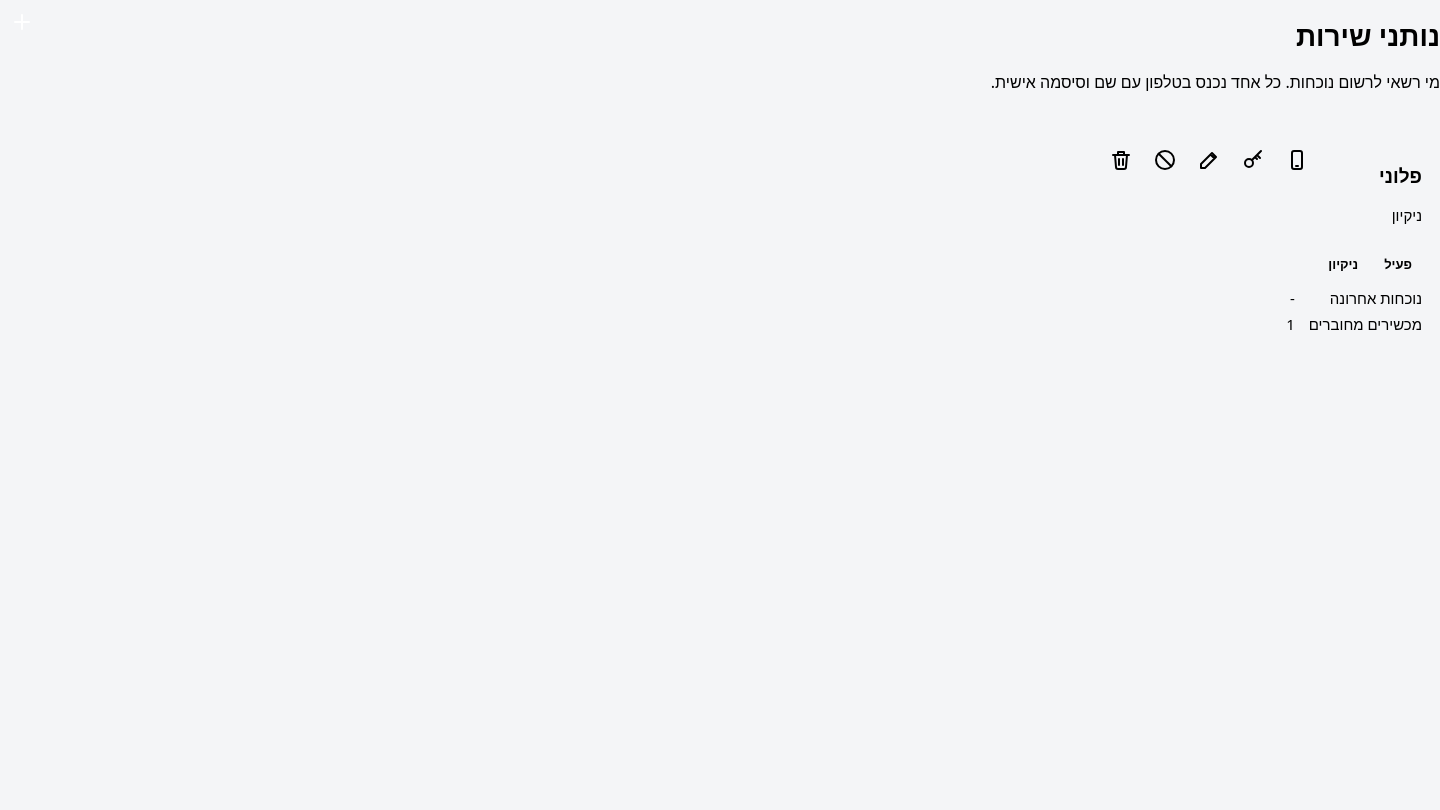
Test case: the phones dialog › says "לא מדווח" for a phone that never reported, with the two reasons, and shows what is not known as such
expect the heading "פלוני" is shown: met, box [1379,163,1422,189]
What coordinates should you click on to do the following:
click the button named "מכשירים"
I would click on:
 (1296, 160)
Its box is [1274,138,1318,182].
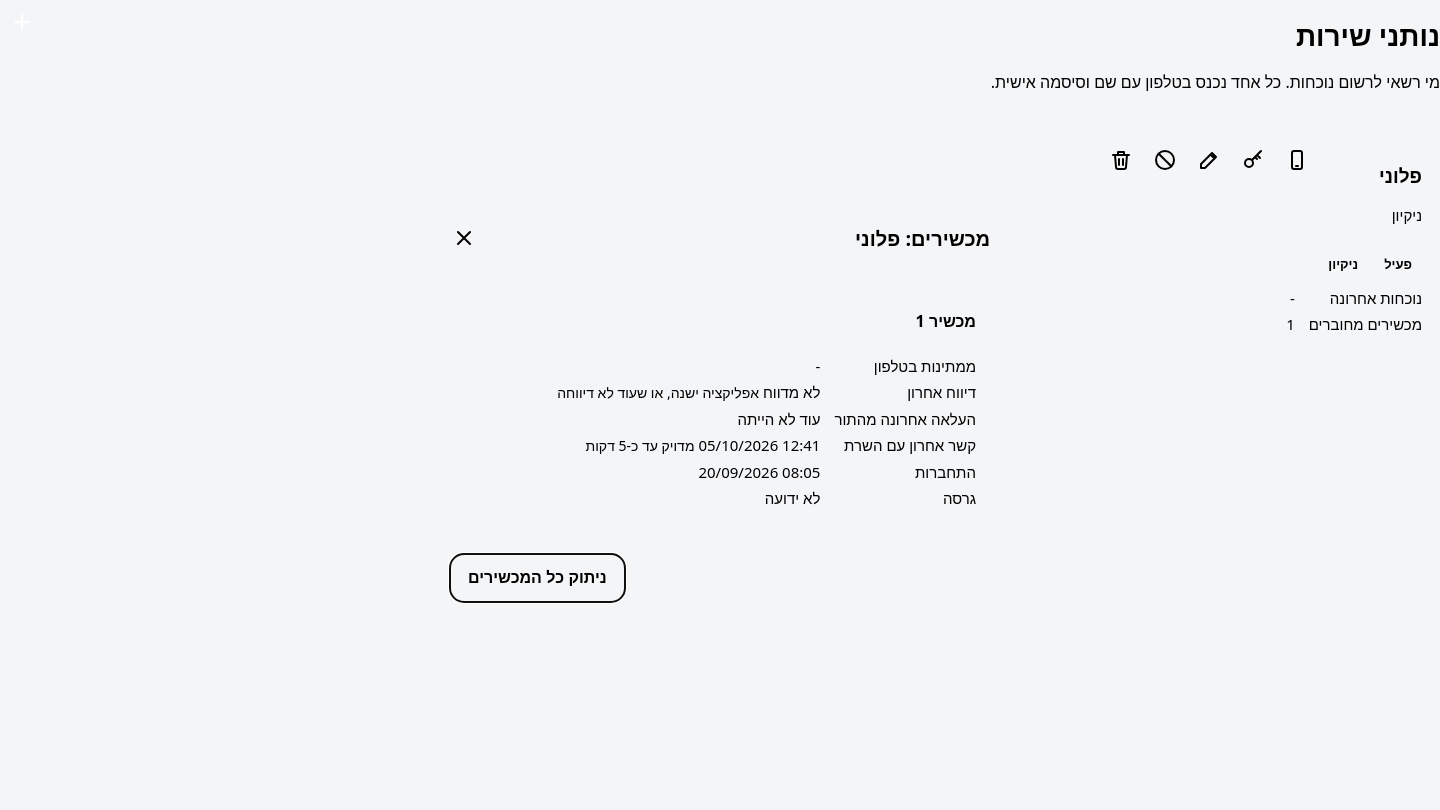
expect the text "לא מדווח" is shown: met, box [763,382,820,402]
expect the text "עוד לא הייתה" is shown: met, box [738,409,820,429]
expect the text "לא ידועה" is shown: met, box [765,488,820,508]
